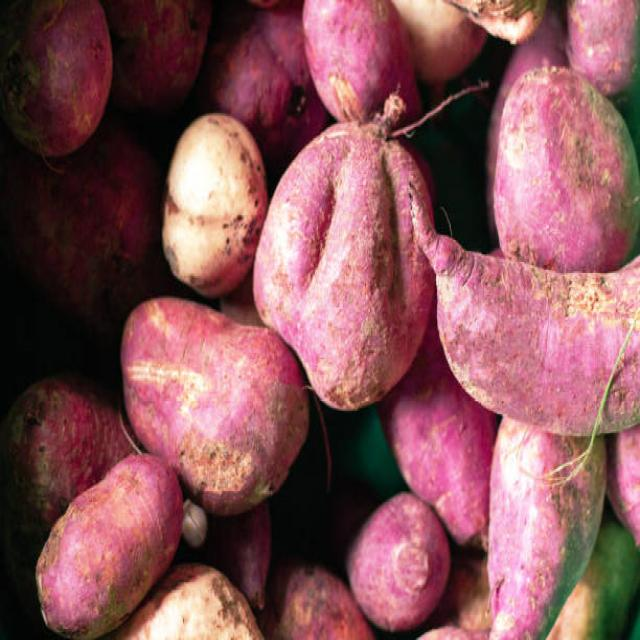Sweet Potato: (250, 105, 436, 403), (423, 213, 640, 441), (123, 301, 304, 506), (26, 449, 186, 633), (348, 485, 456, 633)
